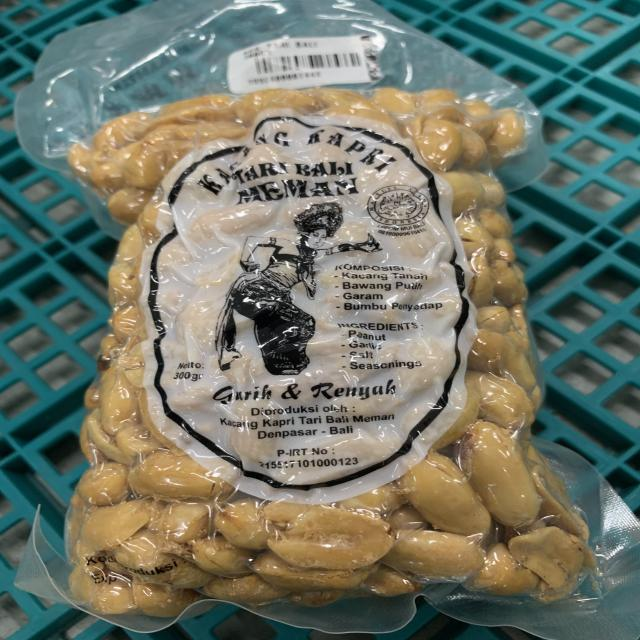object_name: (68, 37, 578, 616)
